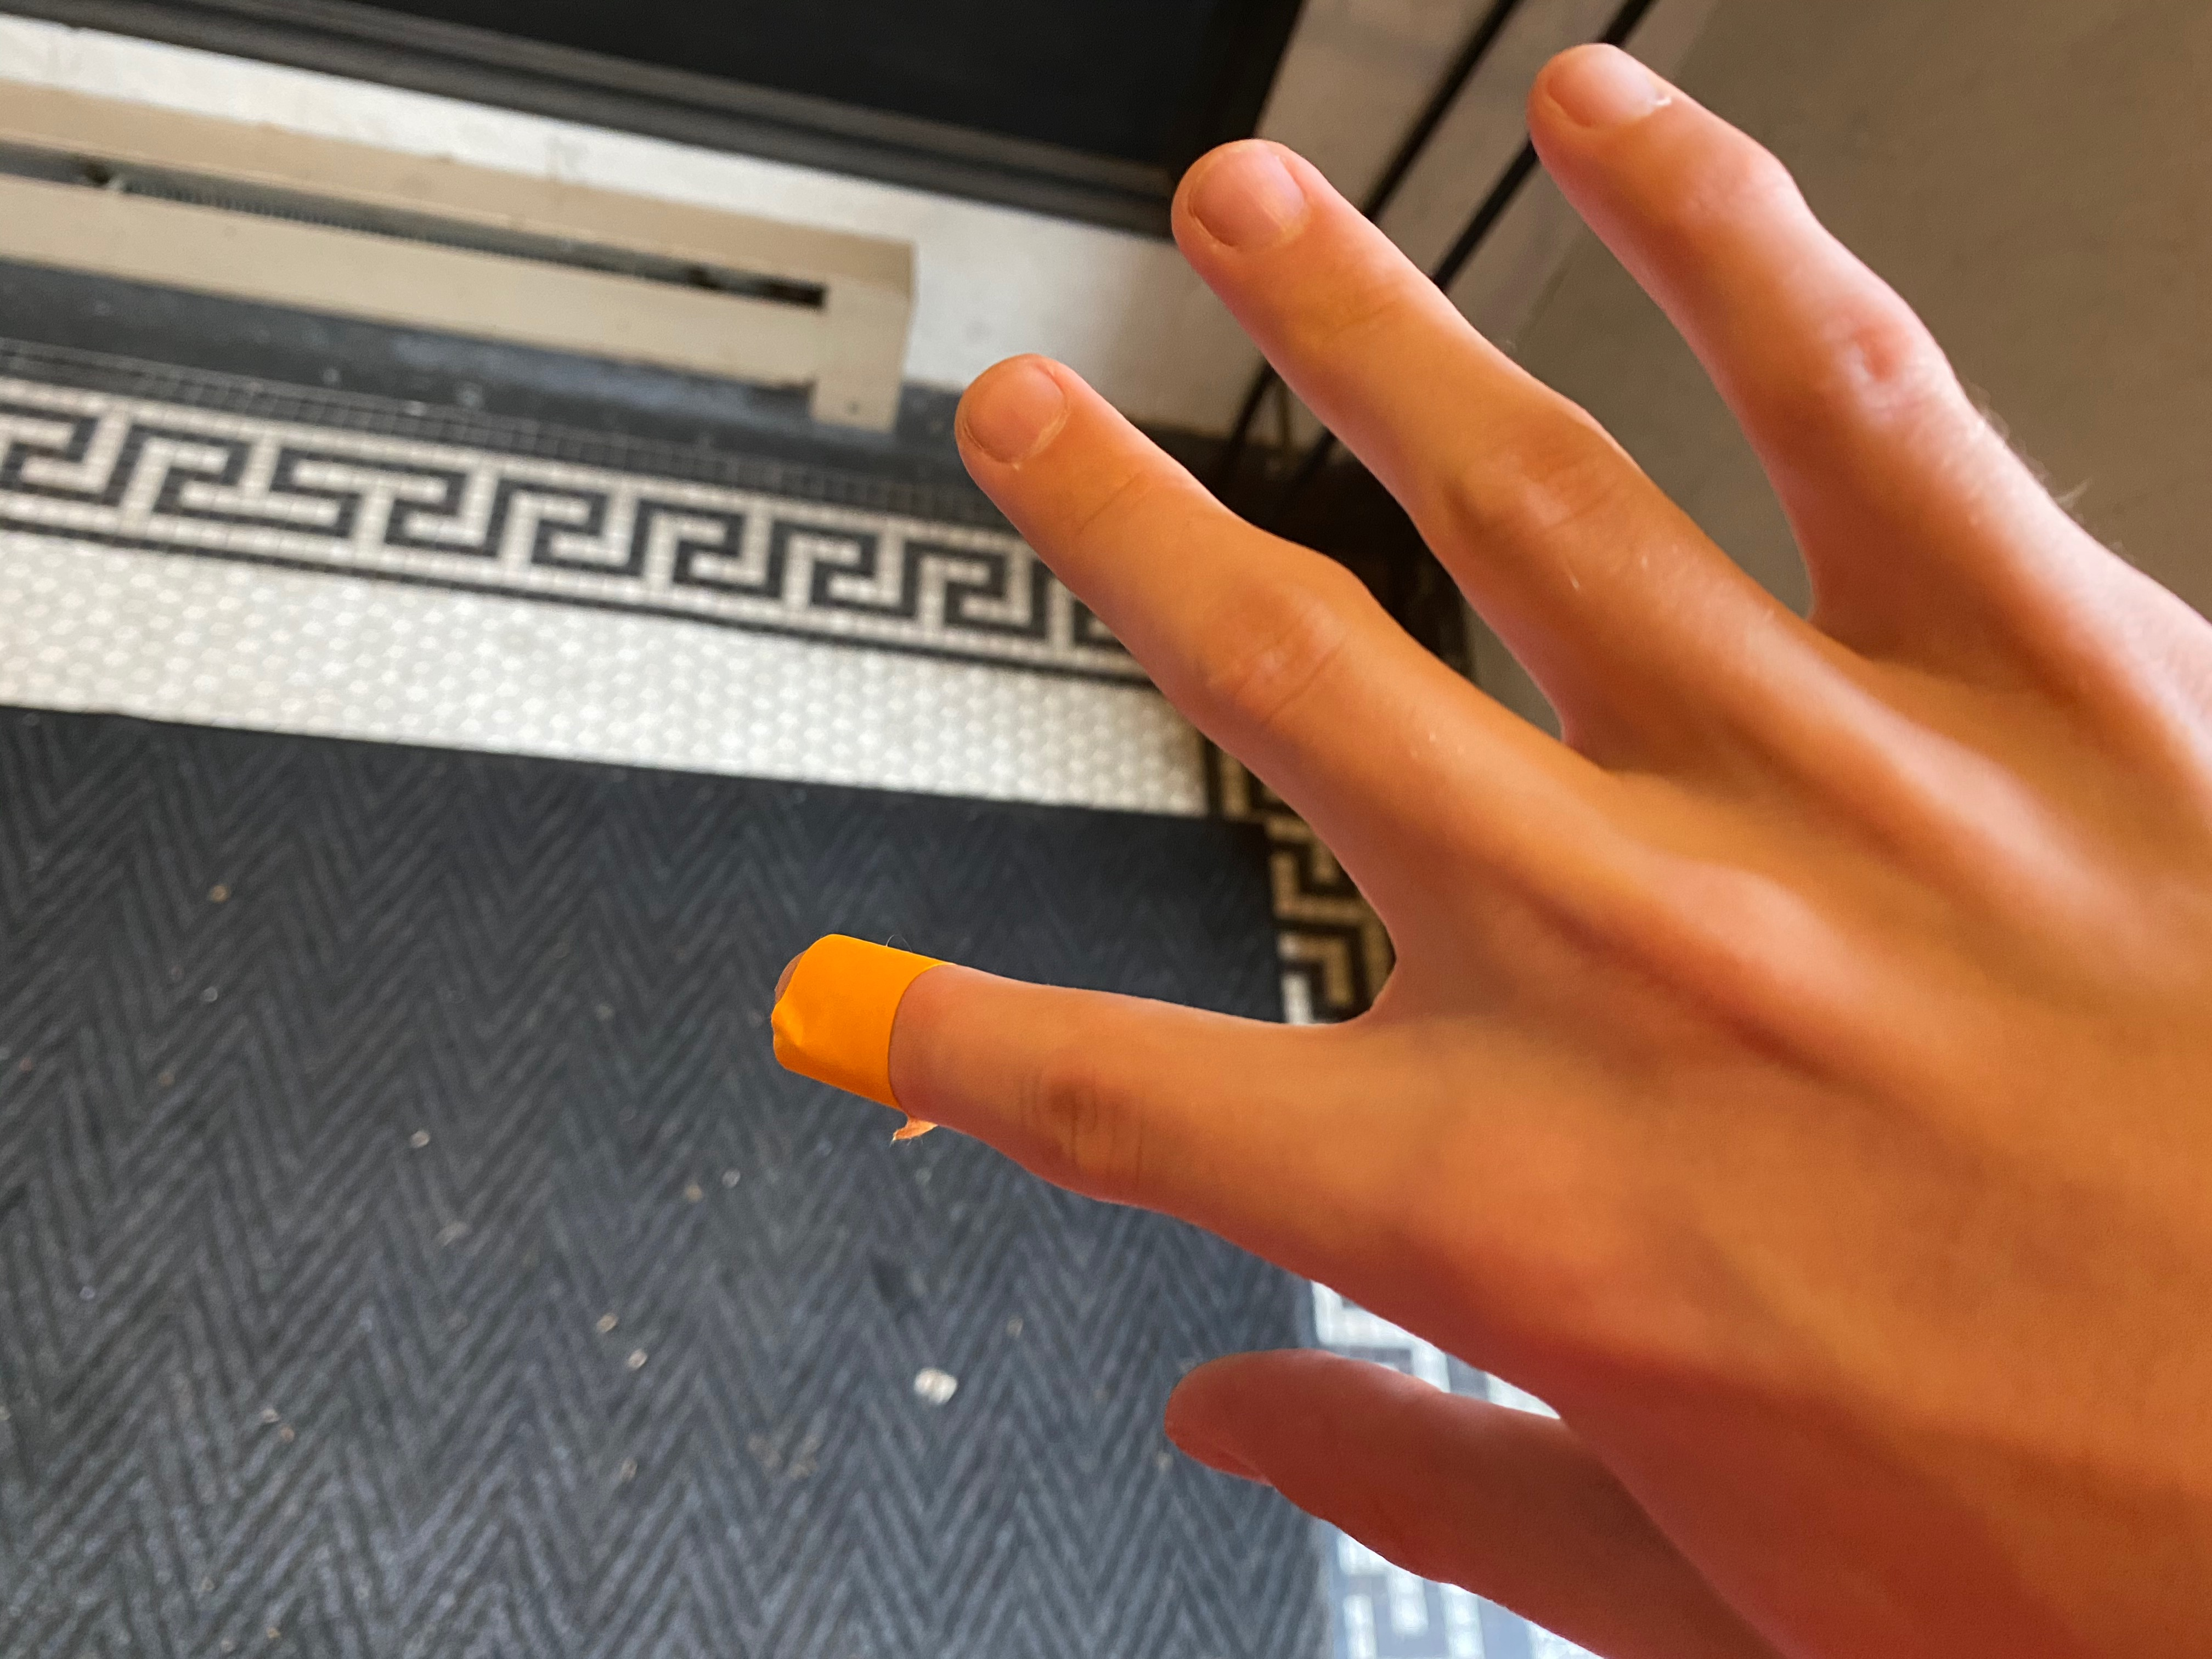fingertip: (709, 908, 1031, 1202)
